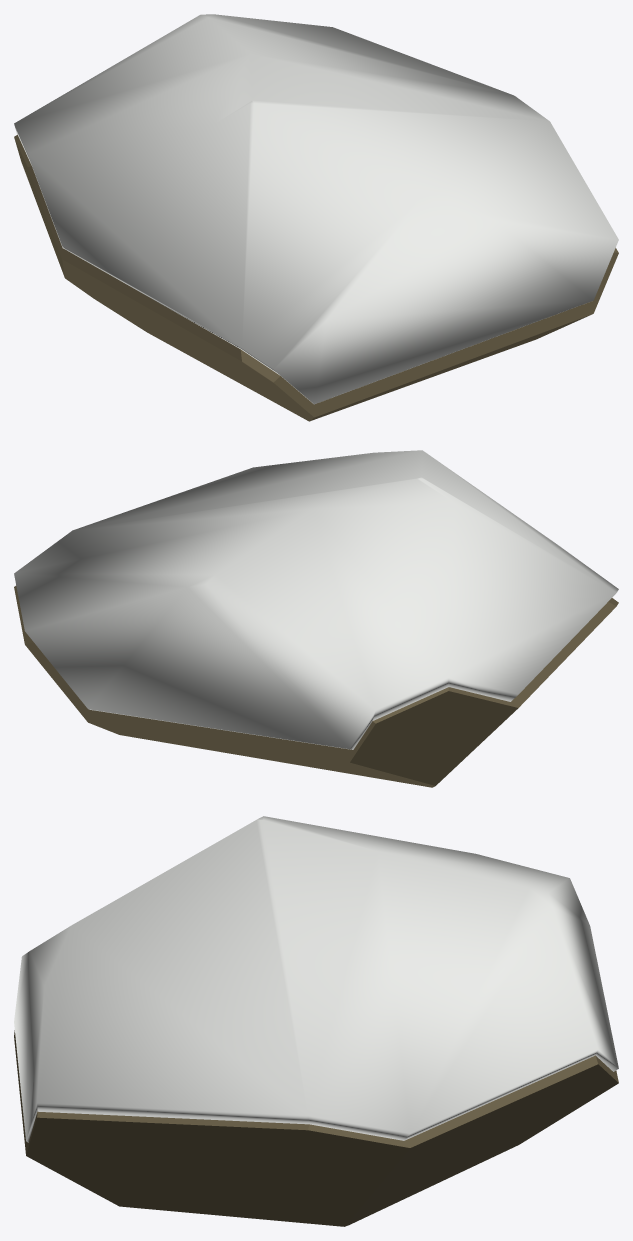
File: WinterRockBig.gltf
3 renders of one model, top to bottom at view 1: azimuth 30°, elevation 25°; view 2: azimuth 150°, elevation 25°; view 3: azimuth 270°, elevation 25°, orthographic. The views are drawn at different scales.
Parts seen in each view (by area): view 1: snow, Rock_large; view 2: snow, Rock_large; view 3: snow, Rock_large.
Boxes of the visible parts, box(x1,y1,x2,y2) form: snow: box(14, 14, 618, 404); Rock_large: box(14, 135, 618, 421); snow: box(14, 450, 618, 749); Rock_large: box(14, 585, 618, 787); snow: box(14, 816, 618, 1142); Rock_large: box(14, 1030, 618, 1226).
Size of the model in its own units: 1.6 by 0.7865 by 1.6.
